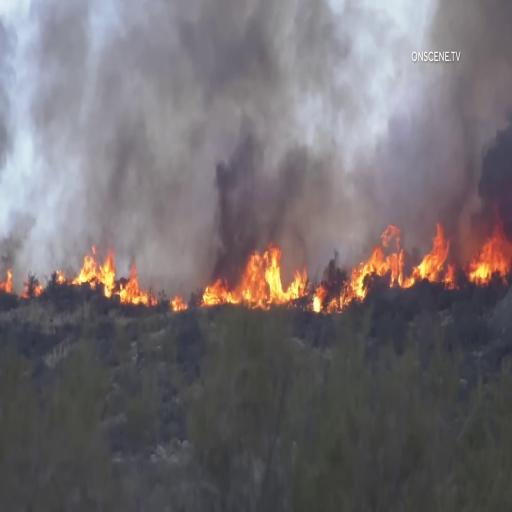fire: (198, 248, 318, 317), (77, 254, 151, 322), (476, 222, 512, 292)
smoke: (142, 16, 403, 209)
